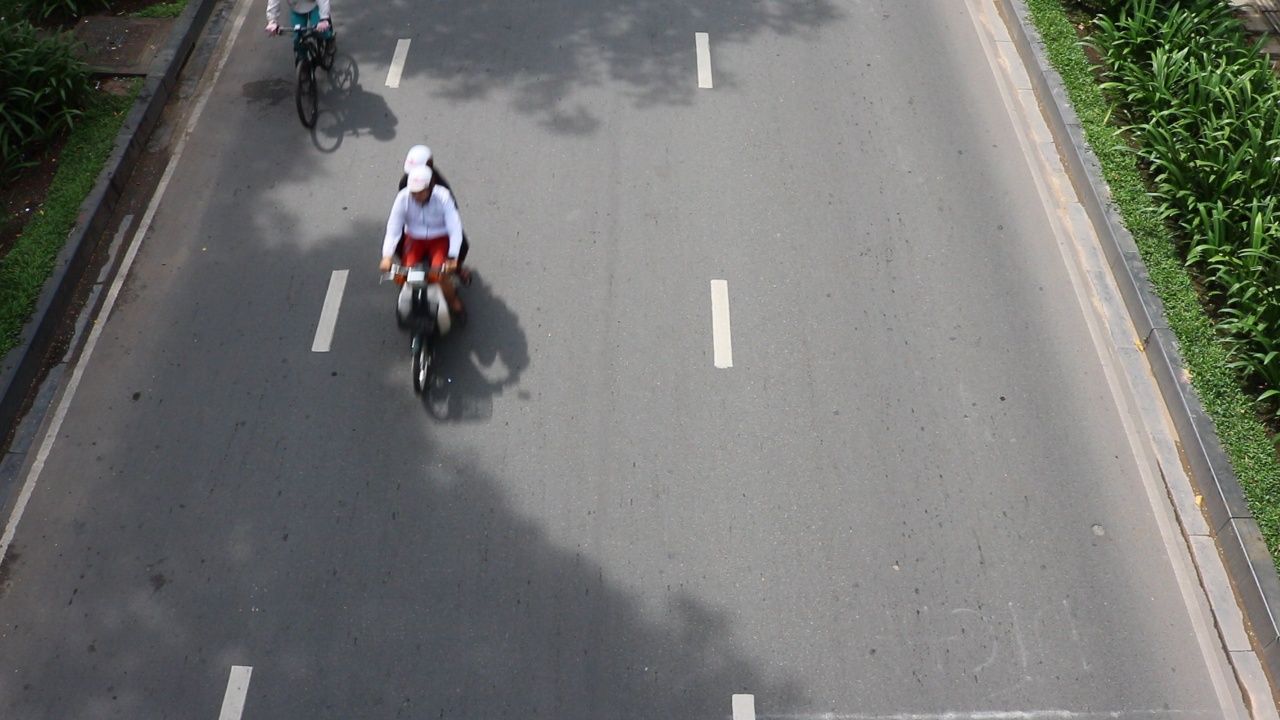bicycle: (278, 15, 342, 129)
motorcycle: (387, 249, 463, 419)
